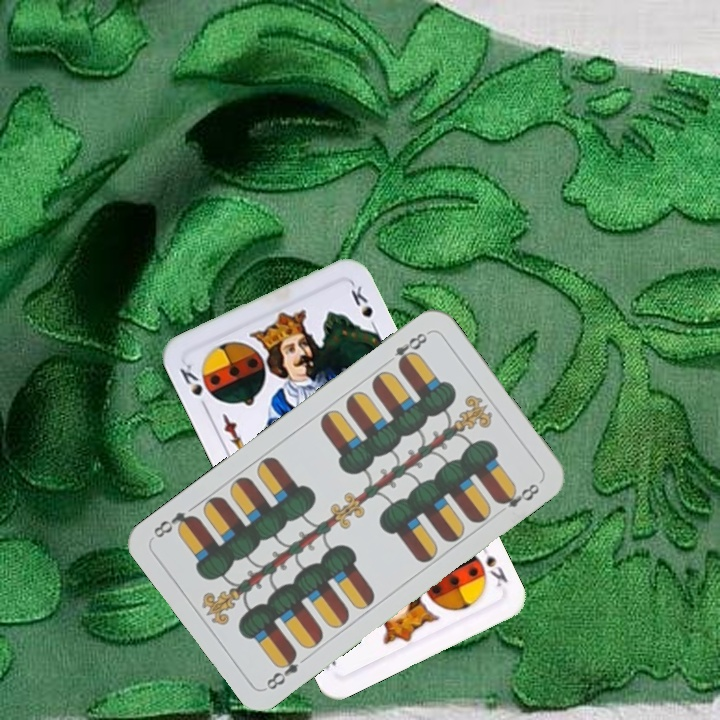E8: (262, 647, 302, 693), (390, 328, 432, 370)
SK: (175, 359, 211, 414), (475, 539, 511, 590)
